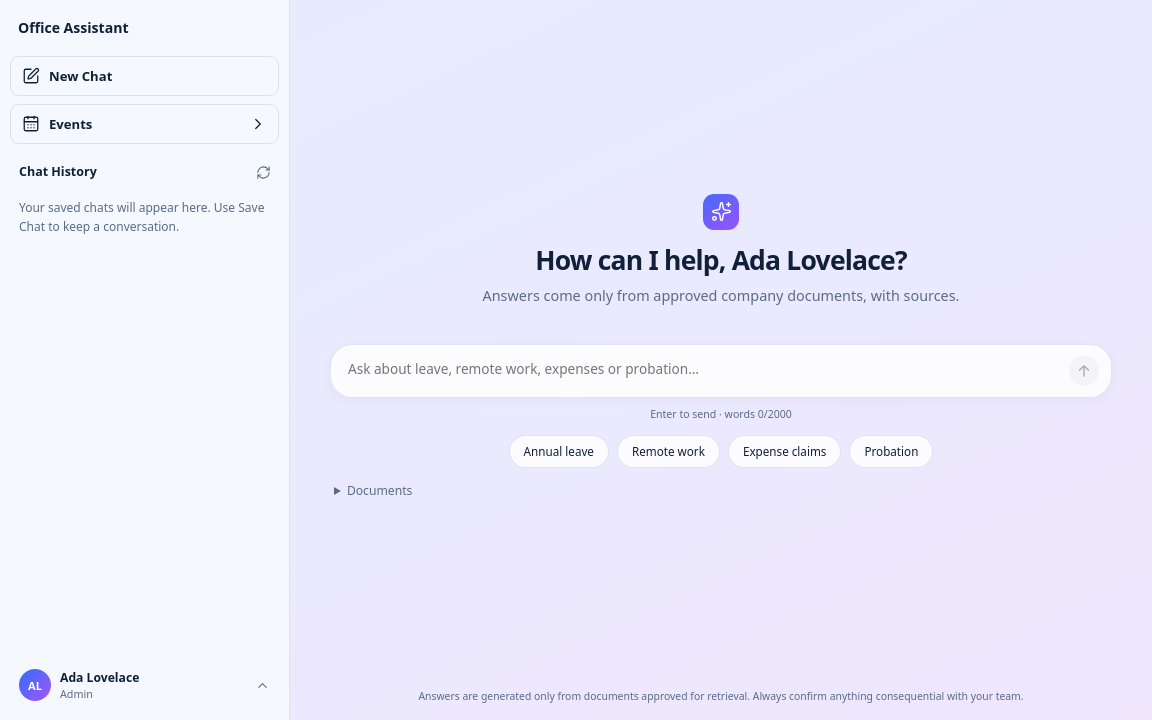
Test: conversation › sends the selected document type with the question
Expected: the button named "send question" is shown, [1069, 356, 1099, 386]
Step 1. Click the heading "Documents" → (380, 490), box [347, 482, 412, 499]
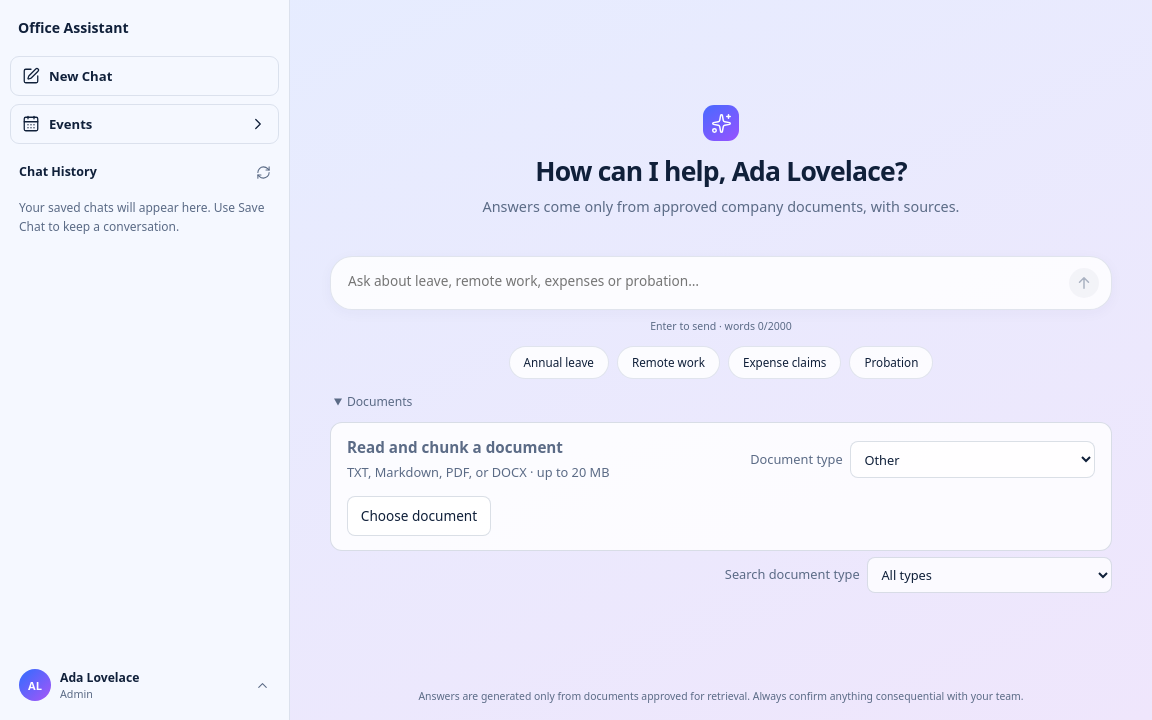
Step 2. Select "CV" in the dropdown labelled "Search document type" → (989, 575), box [867, 557, 1112, 593]
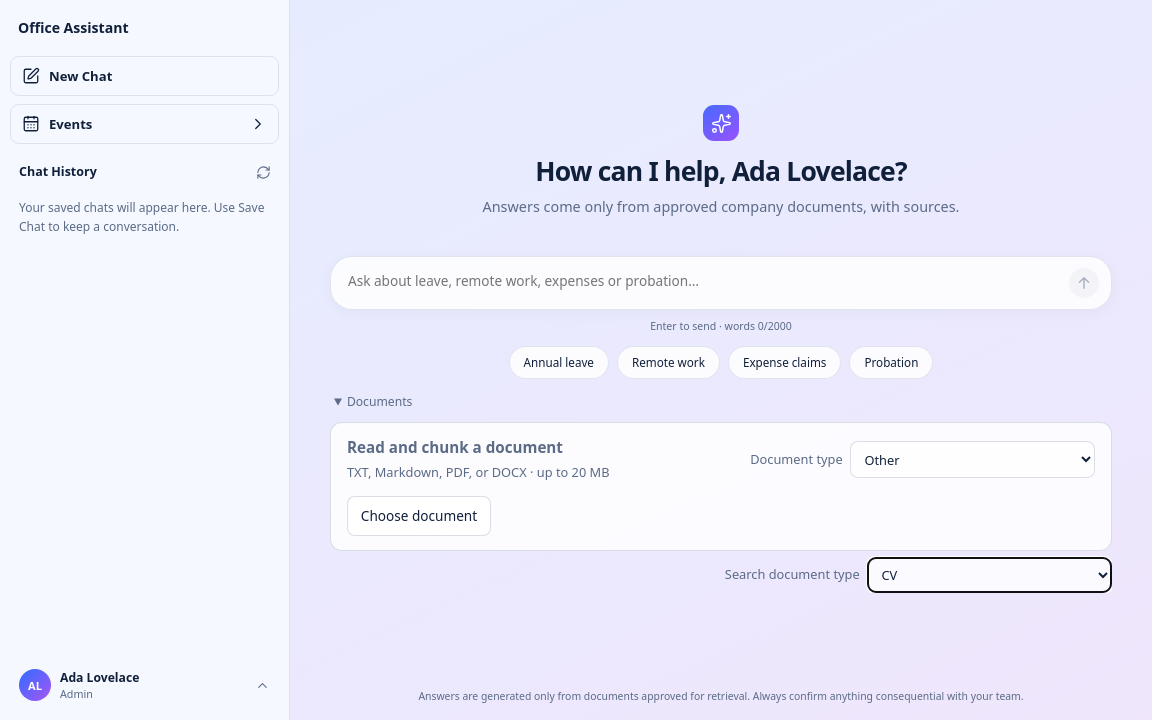
Step 3. Type "Find information in CV documents." into the text box named "your question" → (704, 282), box [348, 268, 1061, 296]
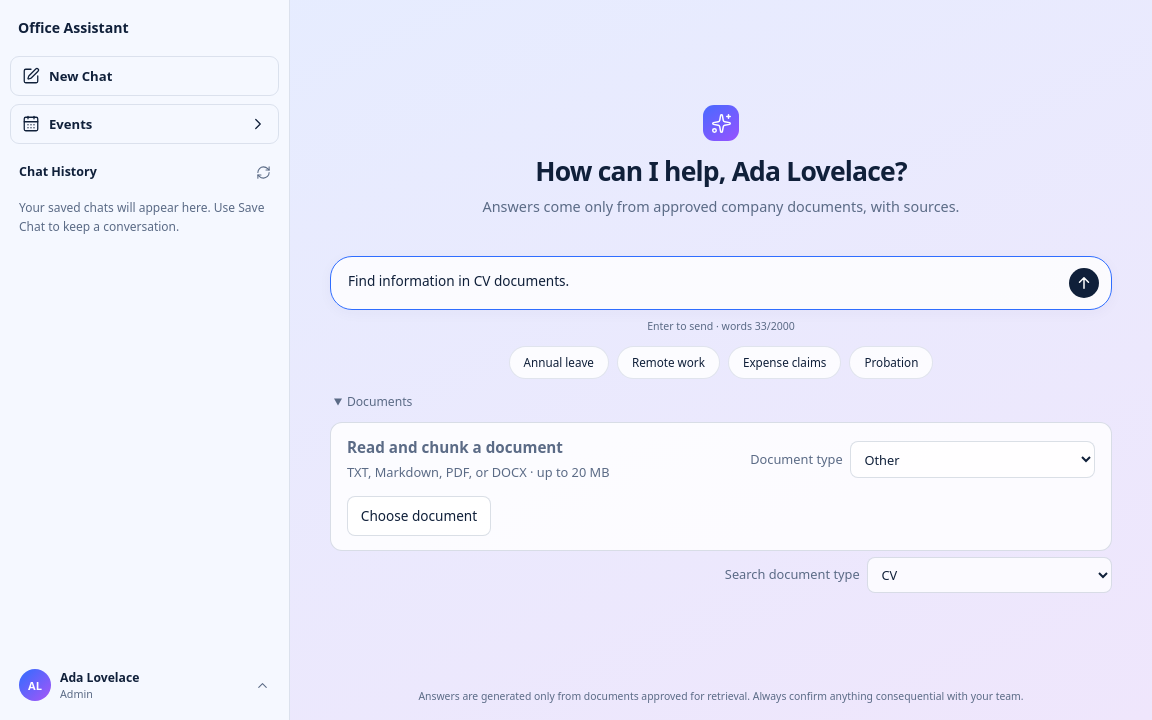
Step 4. Click the button named "send question" → (1084, 282), box [1069, 268, 1099, 298]
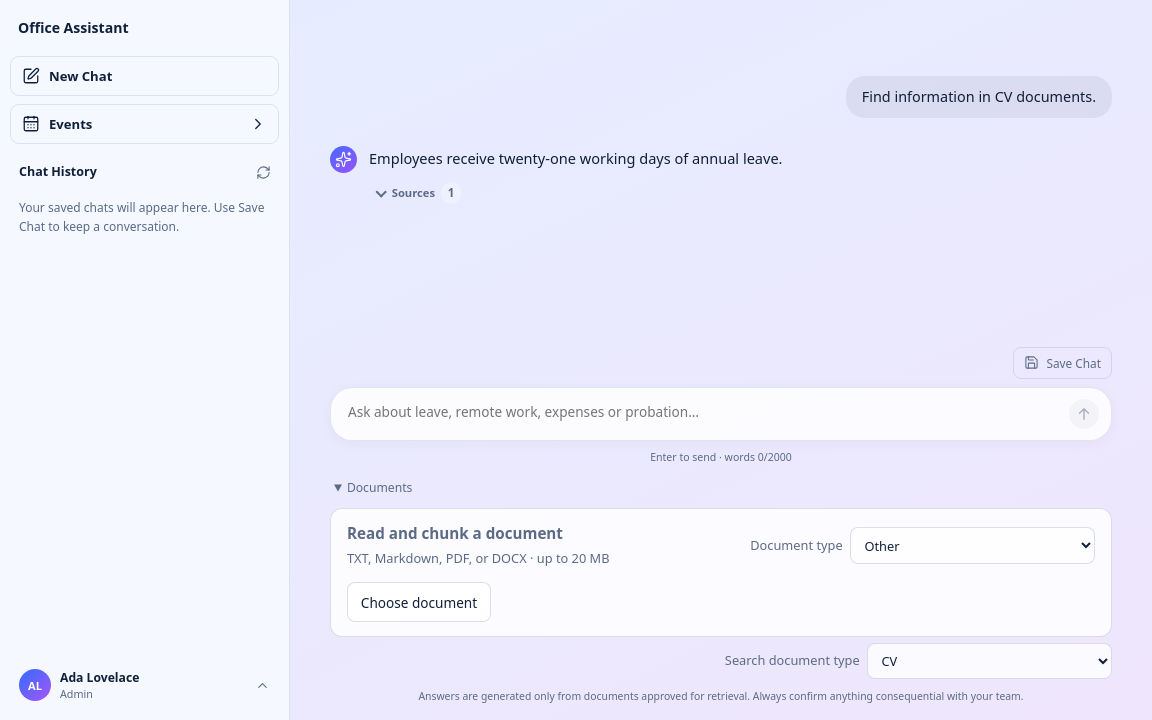
Now the text "Employees receive twenty-one working days of annual leave." is shown, box [369, 148, 782, 168]
